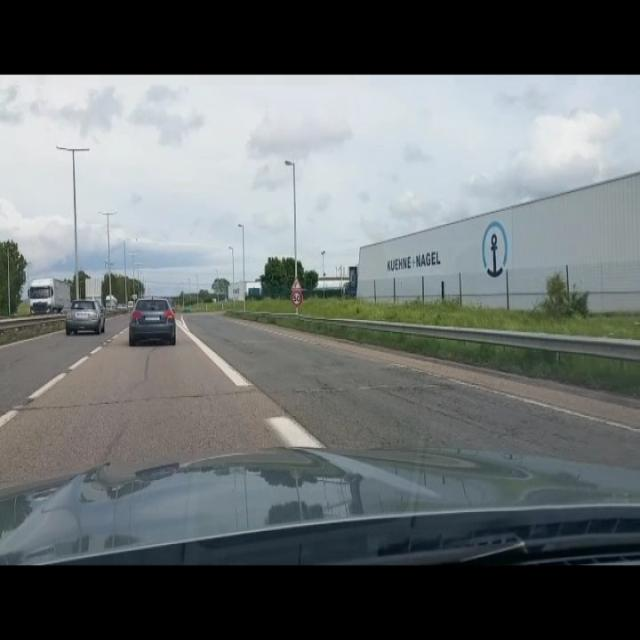speed_50: (290, 290, 304, 308)
turn_right: (289, 275, 304, 291)
